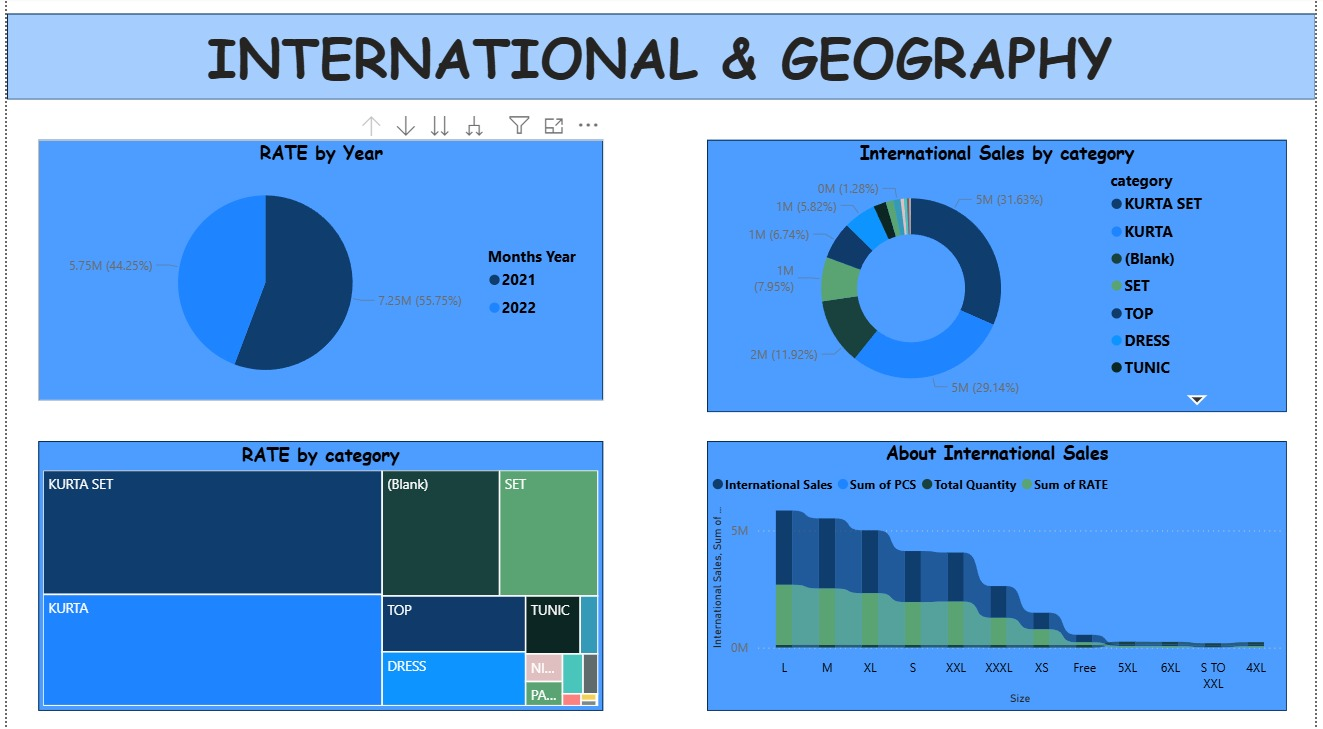

Layout of this report page (visuals, bound fields, positions):
{"tool":"powerbi","page":{"name":"Page 3","canvas":[1280,720],"ordinal":2},"visuals":[{"type":"group","id":"g1","title":"Back1","box":[0,17.1,1280.3,682.3],"z":0},{"type":"shape","box":[684.8,140.6,567.4,266.6],"z":0,"group":"g1"},{"type":"textbox","box":[3.7,17.1,1270.5,84.4],"z":1000},{"type":"shape","box":[684.8,435.3,567.4,264.1],"z":1000,"group":"g1"},{"type":"pieChart","title":"RATE by Year","fields":{"Category":["international_sales_cleaned.Months.Variation.Date Hierarchy.Year","international_sales_cleaned.Months.Variation.Date Hierarchy.Quarter","international_sales_cleaned.Months.Variation.Date Hierarchy.Month","international_sales_cleaned.Months.Variation.Date Hierarchy.Day"],"Y":["Sum(international_sales_cleaned.RATE)"]},"box":[30.6,140.5,553.7,256],"z":2000},{"type":"shape","box":[30.6,435.3,552.7,264.1],"z":2000,"group":"g1"},{"type":"shape","box":[30.6,140.6,552.7,255.6],"z":3000,"group":"g1"},{"type":"donutChart","fields":{"Category":["Sale_Report_CLEAN.category"],"Y":["international_sales_cleaned.International Sales"]},"box":[684.5,140.5,567.7,267.1],"z":3000},{"type":"shape","box":[0,17.1,1280.3,84.4],"z":4000,"group":"g1"},{"type":"treemap","title":" RATE by category","fields":{"Group":["Sale_Report_CLEAN.category"],"Values":["Sum(international_sales_cleaned.RATE)"]},"box":[30.6,435.3,552.7,264.1],"z":4000},{"type":"ribbonChart","title":"About International Sales","fields":{"Y":["international_sales_cleaned.International Sales","Sum(international_sales_cleaned.PCS)","amazon_sales_sql_ready.Total Quantity","Sum(international_sales_cleaned.RATE)"],"Category":["international_sales_cleaned.Size"]},"box":[684.5,434.1,567.7,264.3],"z":5000}]}

Visuals, with their boxes on the page's 1280x720 design canvas (x1, y1, x2, y2). These are canvas units, not pixel positions in the 1323x729 screenshot, which may show the page scaled, cropped or inside an application window:
"Back1" group: crop(0, 17, 1280, 699)
shape: crop(685, 141, 1252, 407)
textbox: crop(4, 17, 1274, 102)
shape: crop(685, 435, 1252, 699)
"RATE by Year" pieChart: crop(31, 140, 584, 396)
shape: crop(31, 435, 583, 699)
shape: crop(31, 141, 583, 396)
donutChart - Sale_Report_CLEAN.category x international_sales_cleaned.International Sales: crop(684, 140, 1252, 408)
shape: crop(0, 17, 1280, 102)
" RATE by category" treemap: crop(31, 435, 583, 699)
"About International Sales" ribbonChart: crop(684, 434, 1252, 698)
